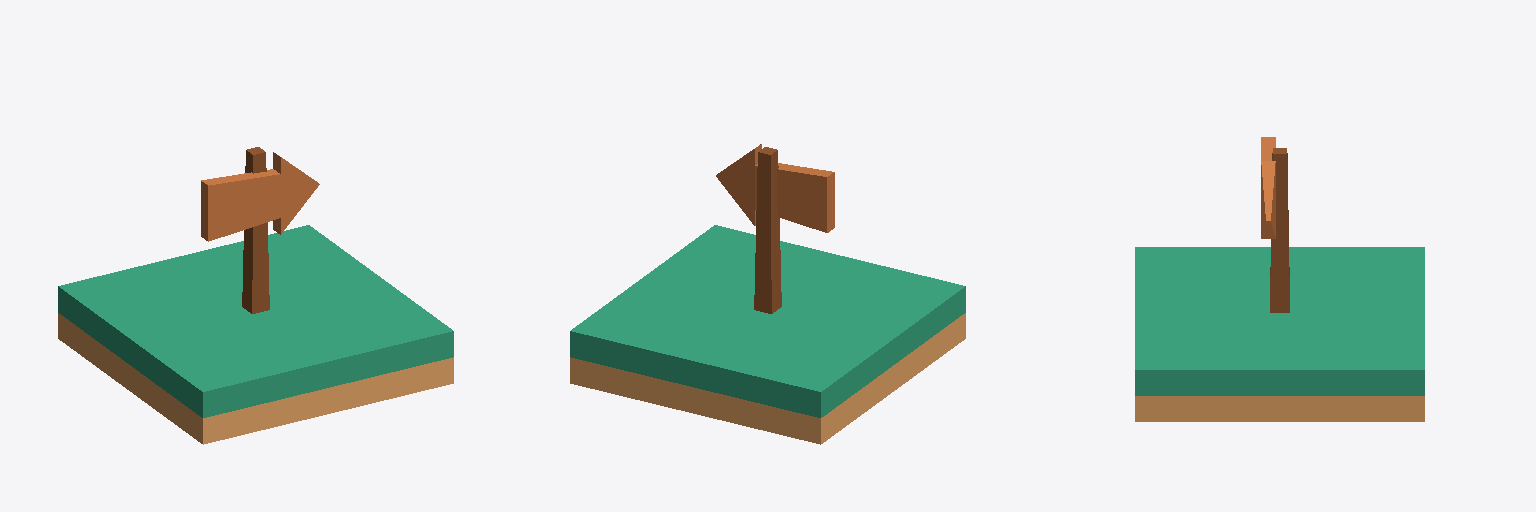
The model's file is Arrow.obj.
3 views of the same model, side by side, from view 1: azimuth 30°, elevation 25°; view 2: azimuth 150°, elevation 25°; view 3: azimuth 270°, elevation 25° (orthographic).
Parts seen in each view (by area): view 1: tile, Arrow; view 2: tile, Arrow; view 3: tile, Arrow.
Part boxes in pixels (bbox=[...]): tile: bbox=[58, 225, 453, 444]; Arrow: bbox=[201, 147, 319, 313]; tile: bbox=[570, 225, 965, 444]; Arrow: bbox=[716, 144, 834, 313]; tile: bbox=[1135, 247, 1424, 421]; Arrow: bbox=[1261, 137, 1289, 312].
Bounding box in the file's own units: 1 × 0.8 × 1.